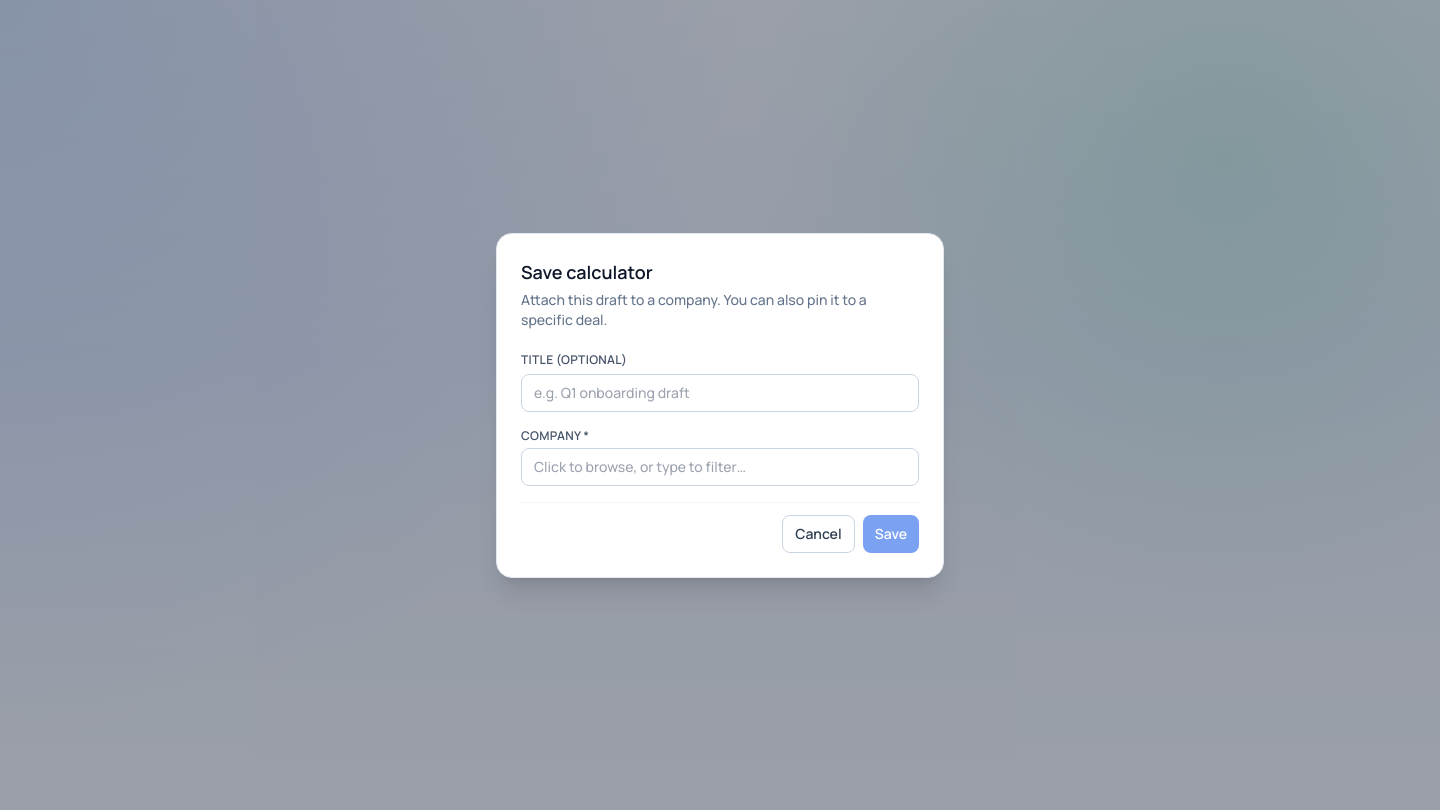
Scenario: SaveCalculatorModal — company typeahead › shows suggestions after typing ≥ 2 chars
Type "Ac" into the dropdown with placeholder "Click to browse, or type to filter…".
click(720, 466); type("Ac")  # box [521,448,919,486]
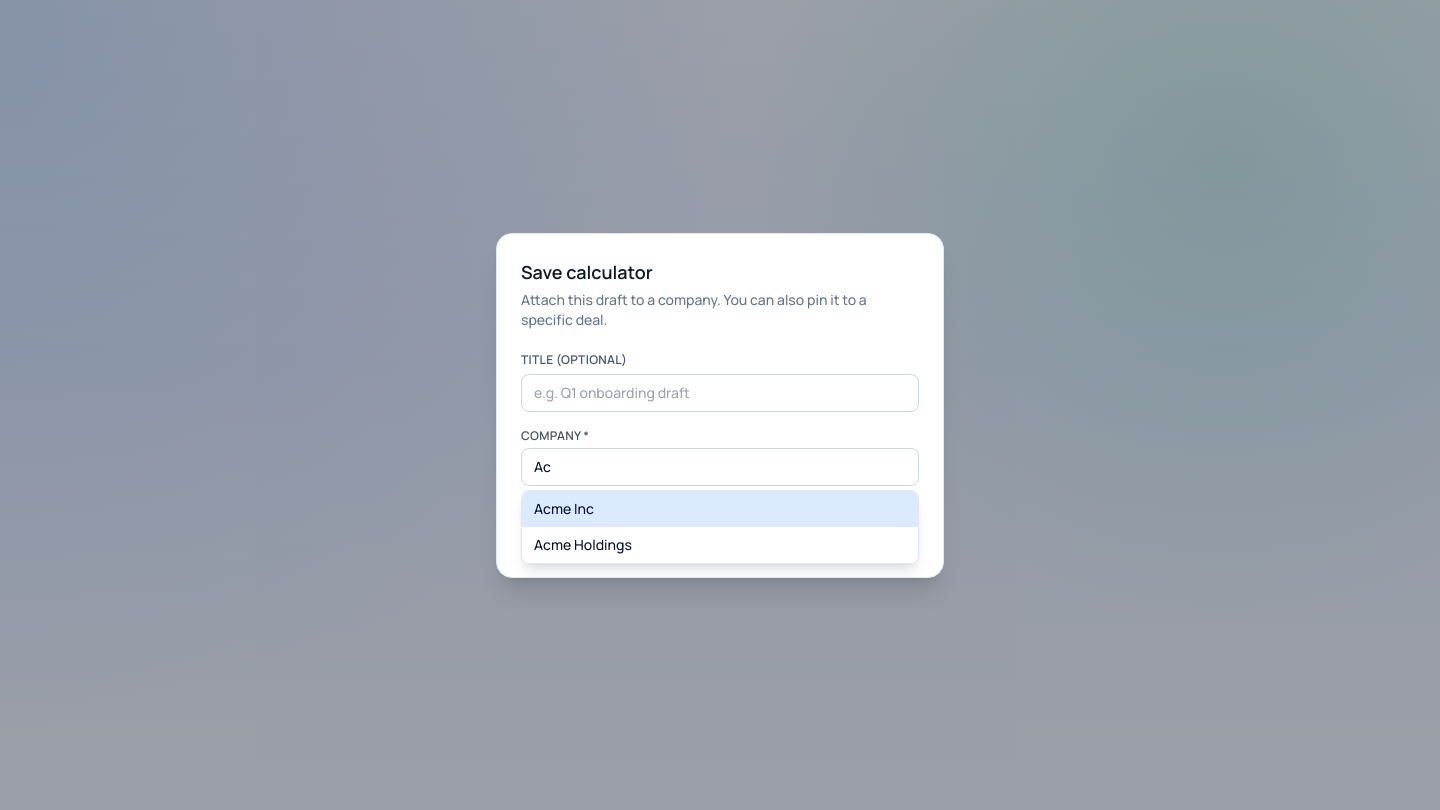
Now the text "Acme Inc" is shown, box [534,498,594,518]
Now the text "Acme Holdings" is shown, box [534,534,632,554]
